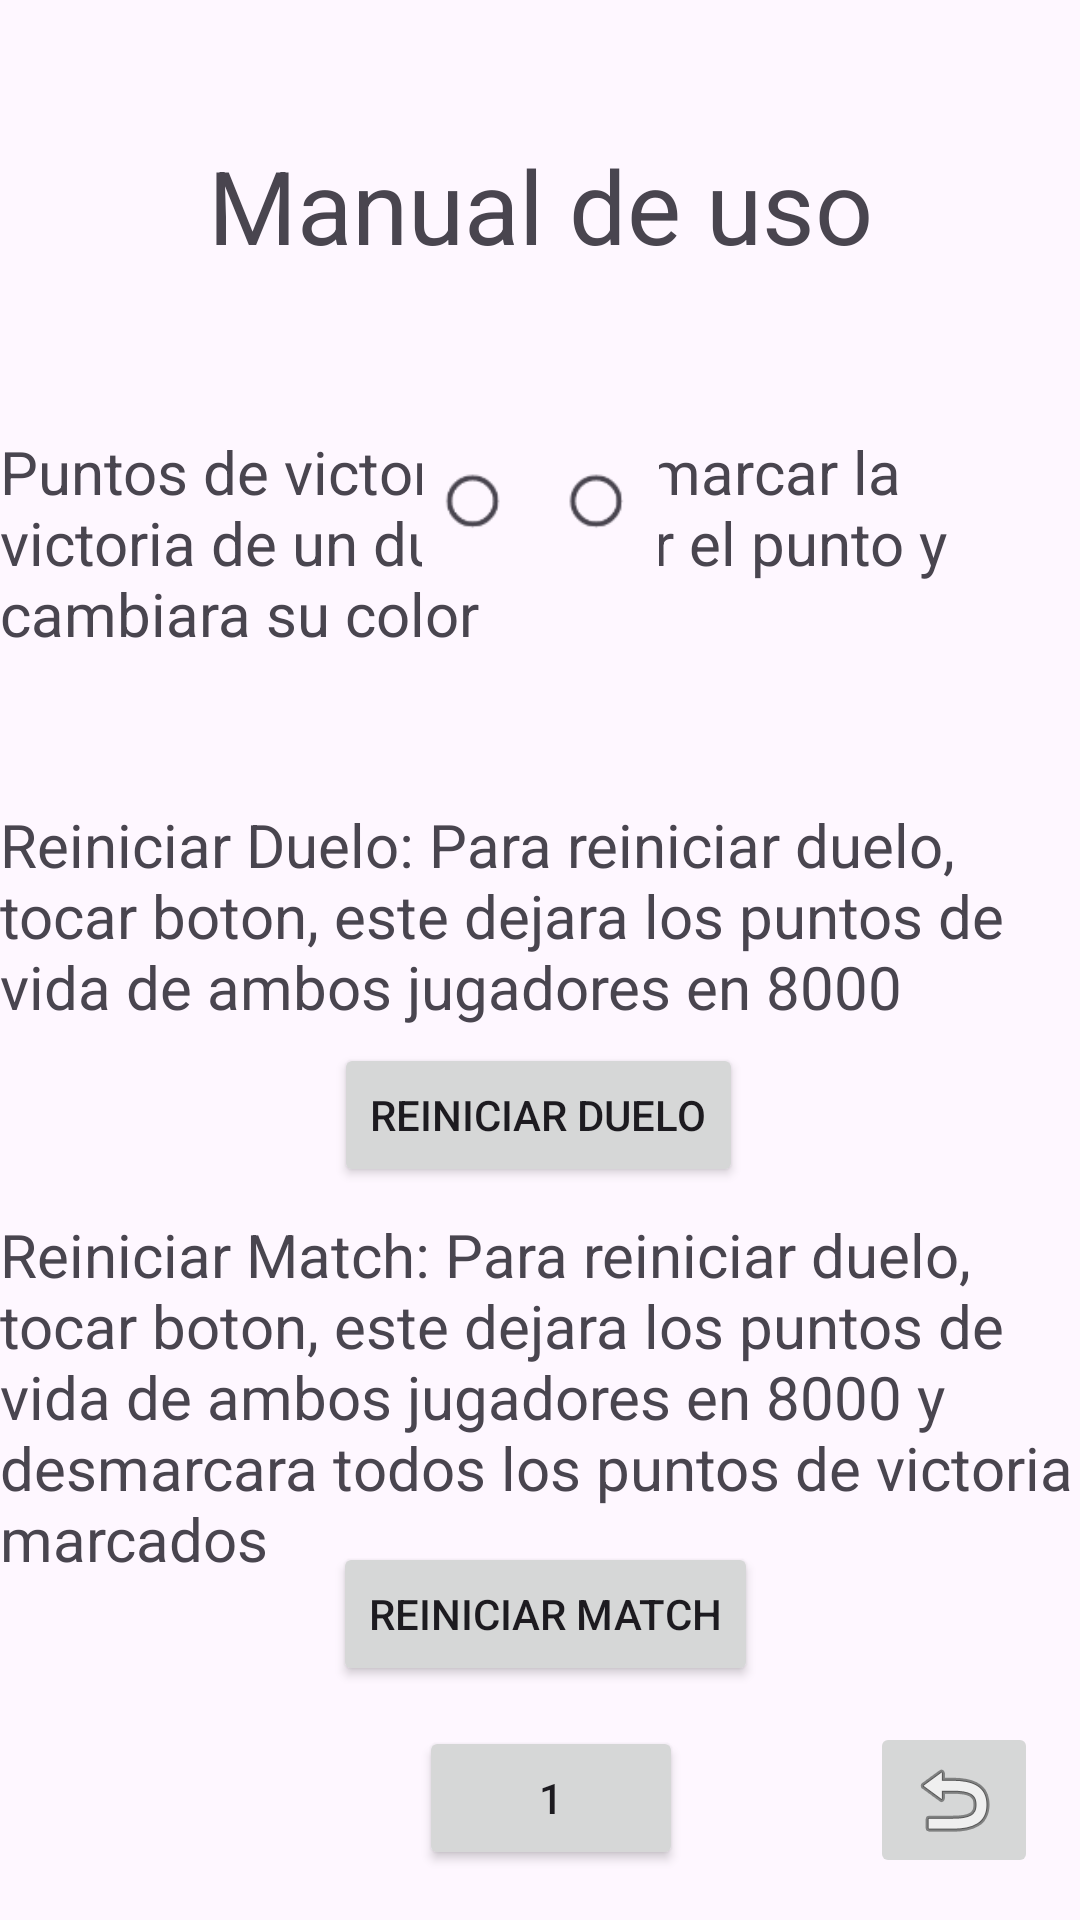

Named icons in this screenshot (1080px x 1920px) and their bounding boxes, {"left": x1, "top": y1, "right": x2, "bottom": y2}:
revert: {"left": 882, "top": 1740, "right": 1026, "bottom": 1860}
